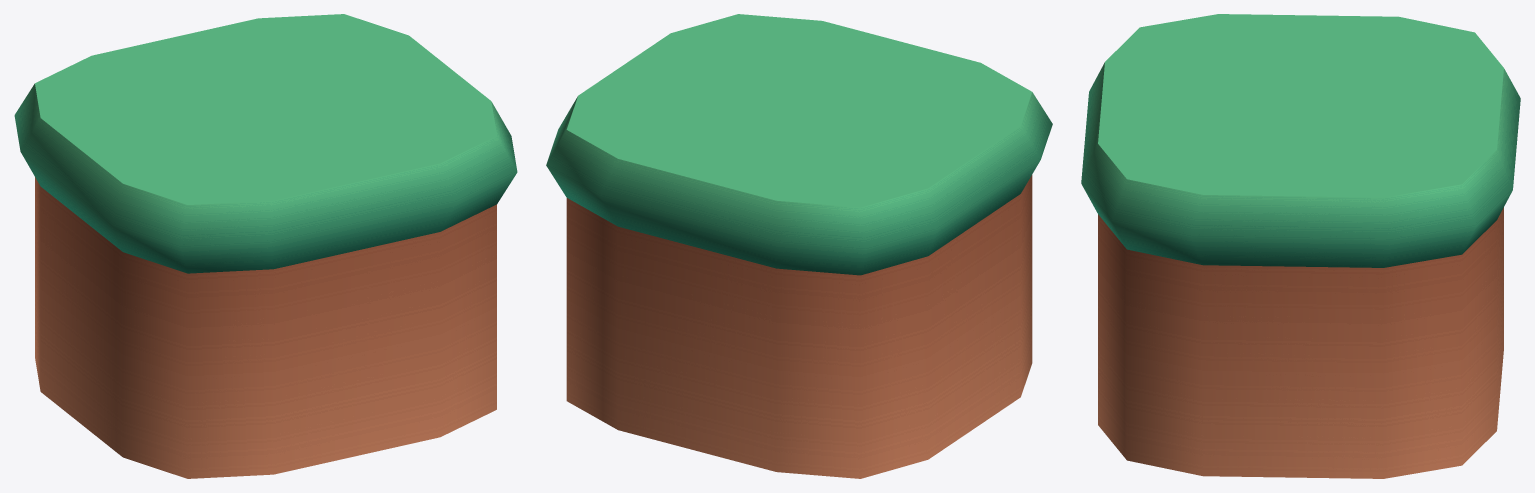
Rendered from block-grass.012_lev2.glb.
3 views of the same model, side by side, from view 1: azimuth 30°, elevation 25°; view 2: azimuth 150°, elevation 25°; view 3: azimuth 270°, elevation 25° (orthographic). The views are drawn at different scales.
Visible parts, largest first — view 1: block-grass.012_lev2; view 2: block-grass.012_lev2; view 3: block-grass.012_lev2.
Part boxes in pixels (<box>): block-grass.012_lev2: <box>14,14,517,478</box>; block-grass.012_lev2: <box>546,14,1052,478</box>; block-grass.012_lev2: <box>1081,14,1520,478</box>.
Size of the model in its own units: 6.62 by 4.37 by 6.18.
Materials: 1 (1 with a texture image).
